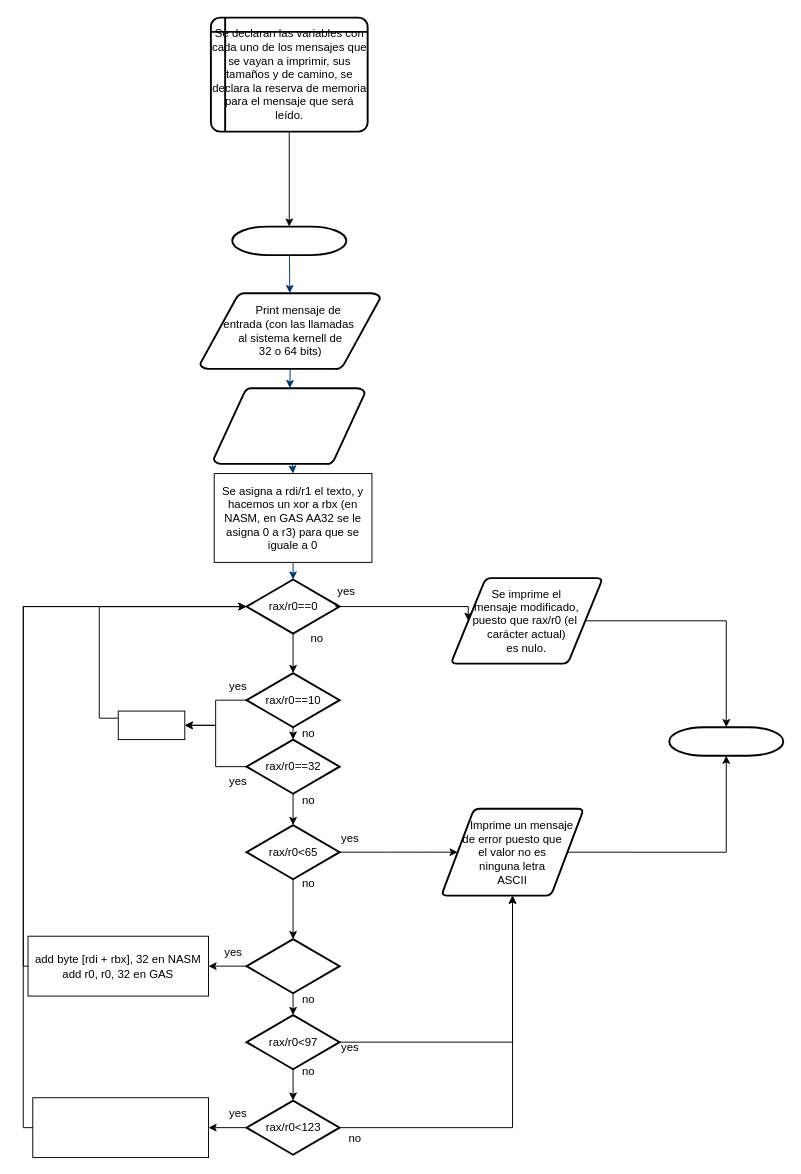
Image size: 801x1174. Some labels were removed from this diagram. The centre of each missing label's shape, as x and y in pixels:
"end" belongs at [726,741].
"inc rbx" belongs at [151,725].
"Lee el texto a convertir (igual, con llamadas kernell)" belongs at [288,426].
"rax/r0<=90" belongs at [292,966].
"start" belongs at [289,240].
"sub byte [rdi + rbx], 32 en NASM sub r0, r0, 32 en GAS" belongs at [120,1127].
